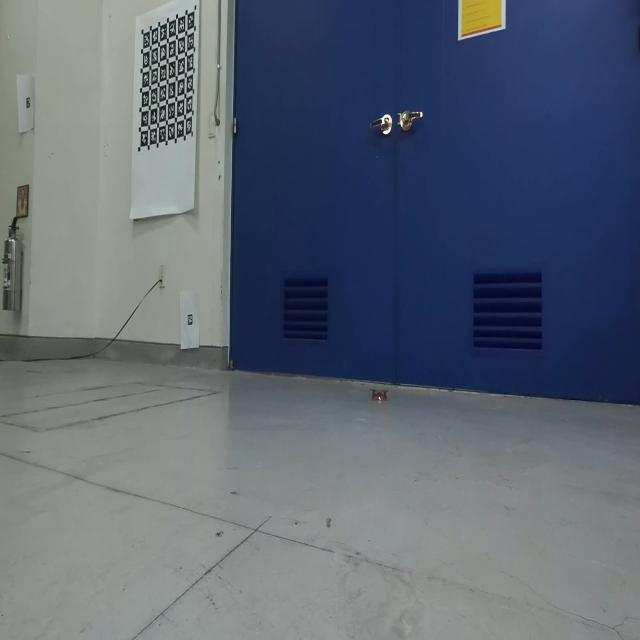crazyflie: (369, 382, 390, 407)
